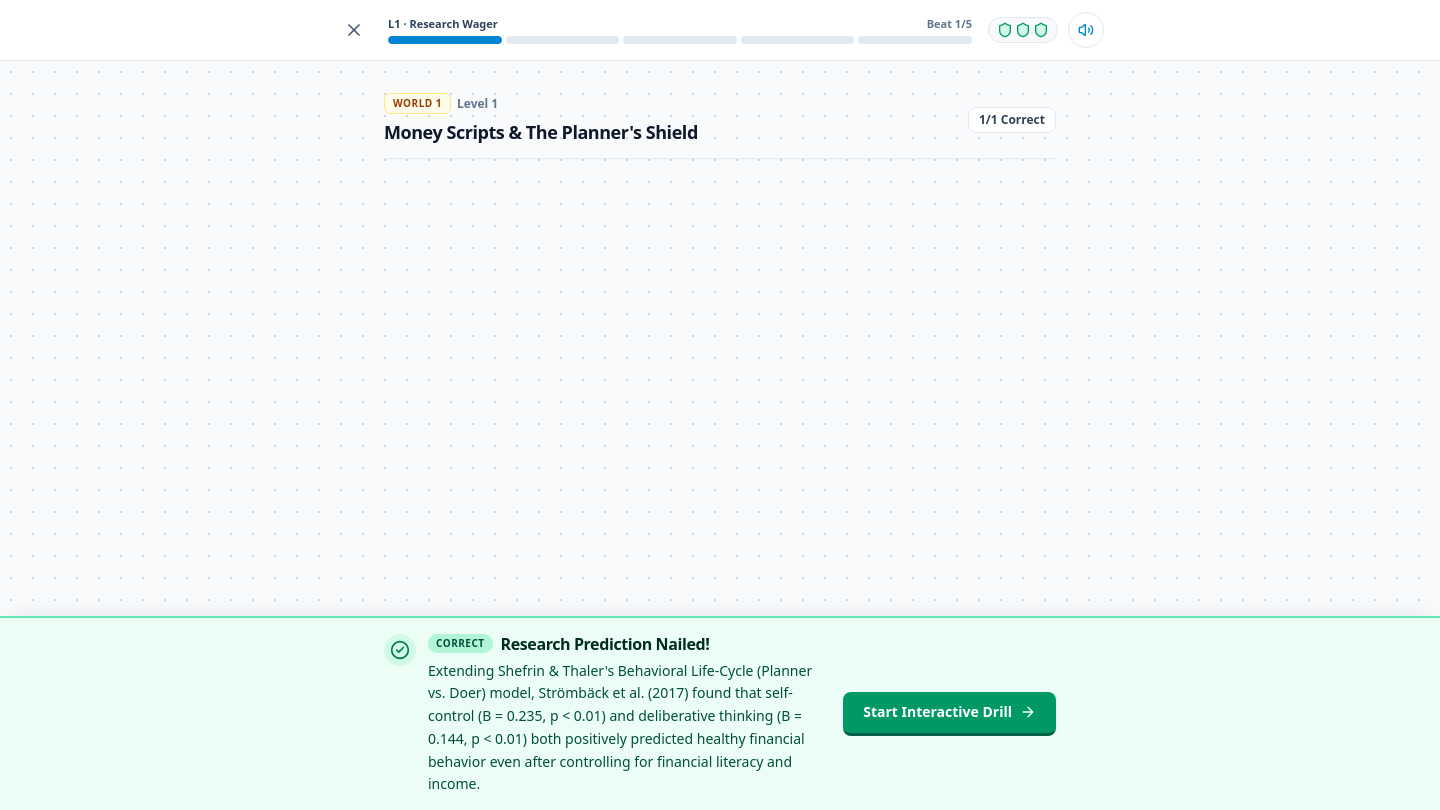
Test case: Phase 5C: Full 5-Beat Arena, Domain Integration, Persistence & Navigation › handles mid-lesson exit confirmation, locked level guard, and Level 9 completion without Level 10
Earlier steps of the test are not shown.
Later steps or results of the test are not shown.
Click the button named "Exit training arena" at coordinates (354, 30), box x1=336 y1=12 x2=372 y2=48
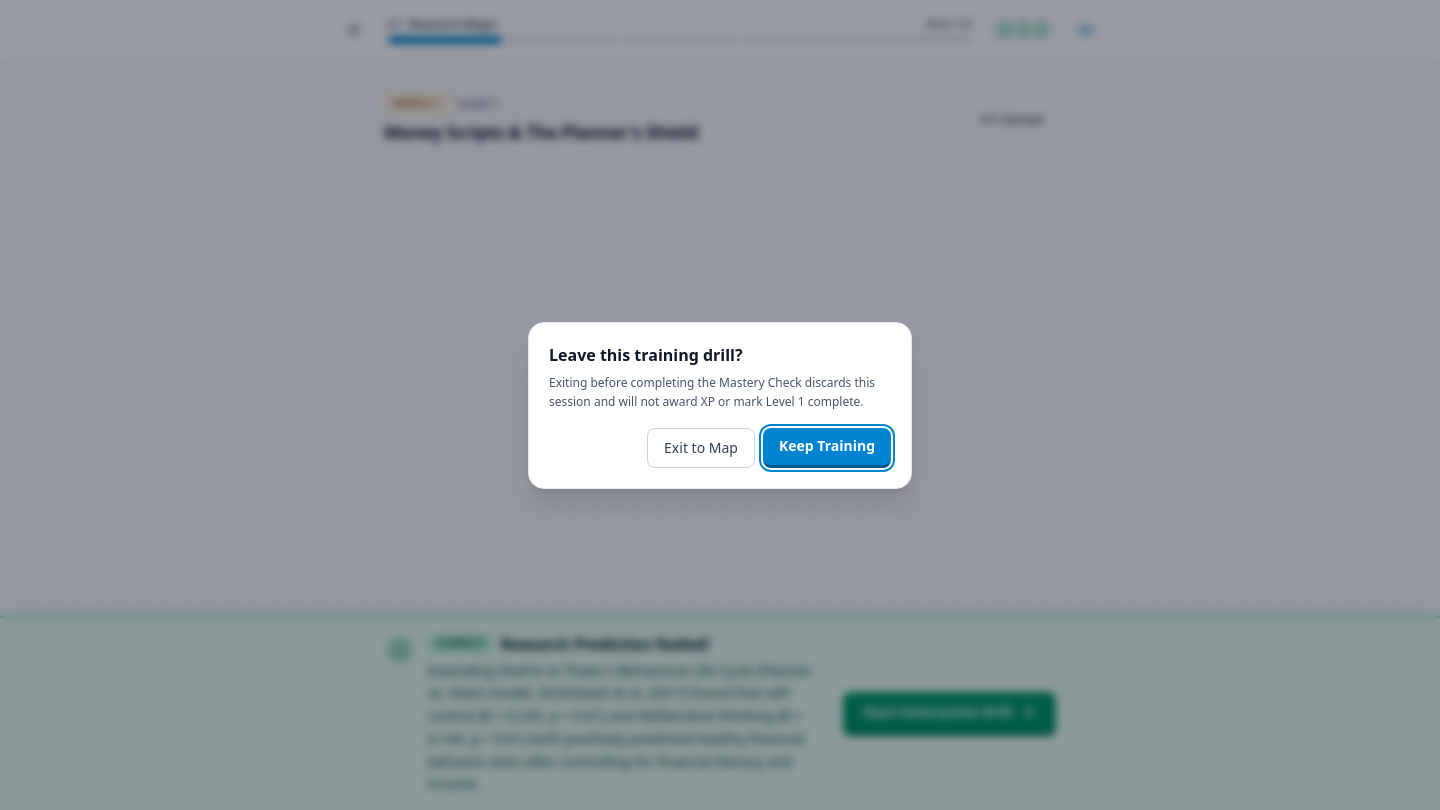
Result: the heading "Leave this training drill?" is shown at x1=549 y1=344 x2=743 y2=366
Click the button "Keep Training" at coordinates (827, 448), box x1=763 y1=428 x2=891 y2=468
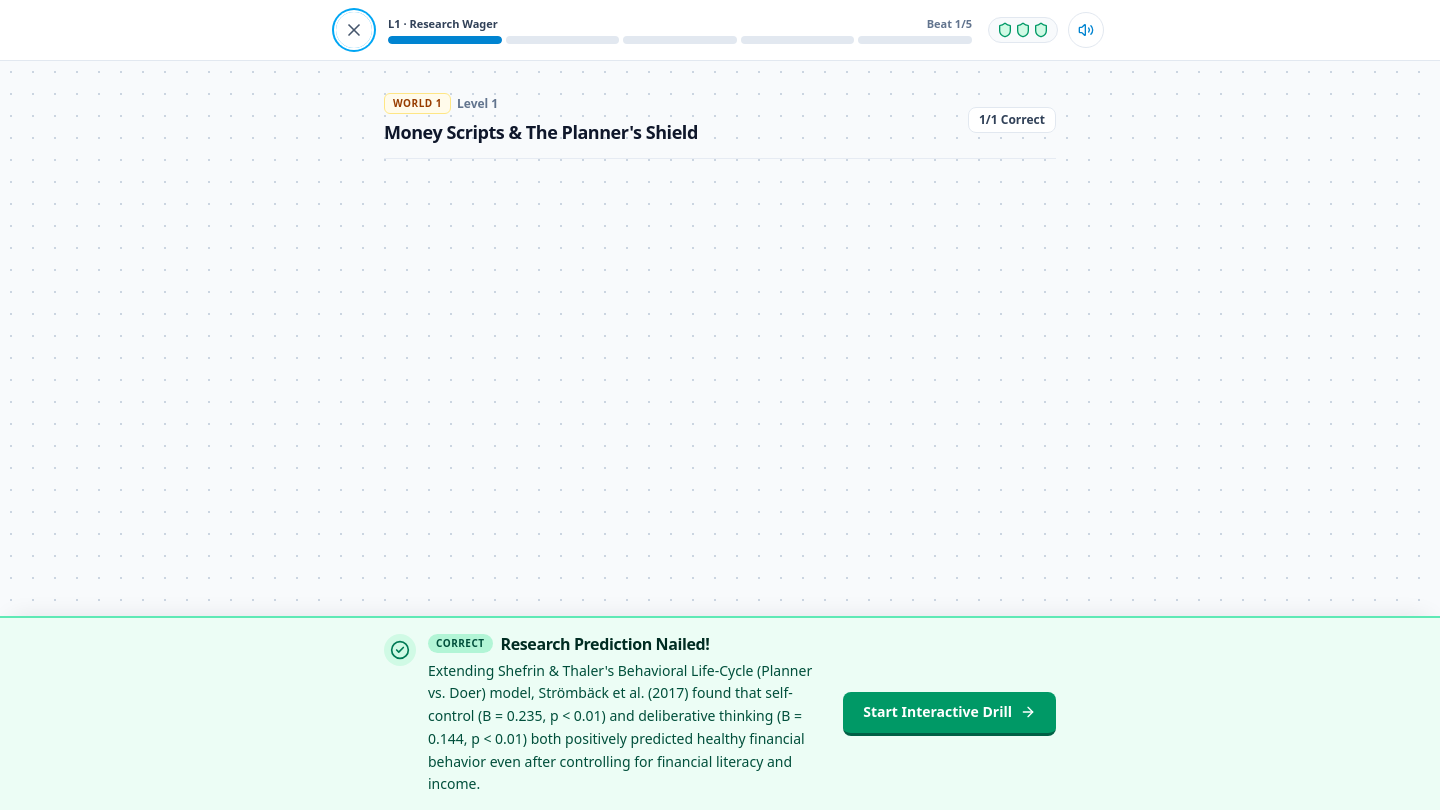
Result: the heading "Leave this training drill?" is gone
